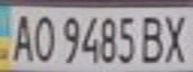4: (78, 12, 100, 64)
5: (115, 12, 142, 64)
8: (96, 12, 121, 64)
9: (57, 11, 81, 64)
A: (6, 10, 36, 63)
B: (136, 11, 169, 64)
O: (30, 11, 57, 63)
X: (160, 11, 193, 64)
